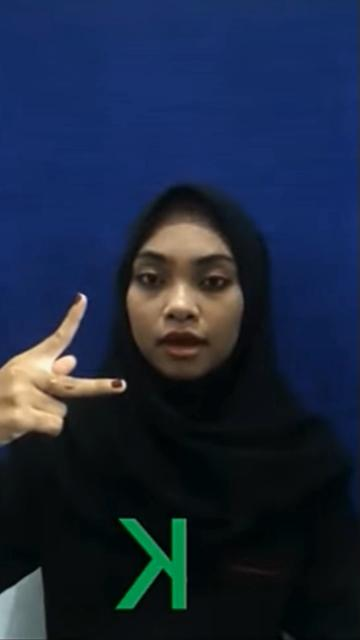K: (0, 290, 134, 452)
